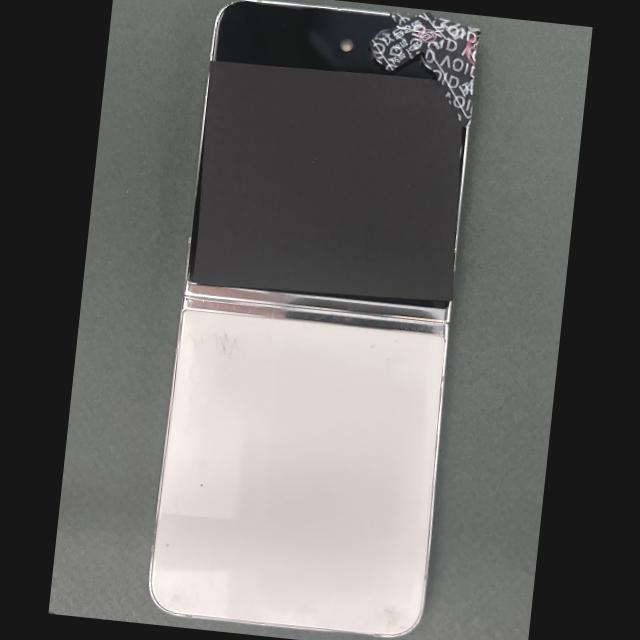lens: (374, 30, 389, 38), (421, 56, 430, 68)
phone: (147, 0, 474, 636)
sticker: (422, 18, 480, 128), (368, 12, 448, 71)
